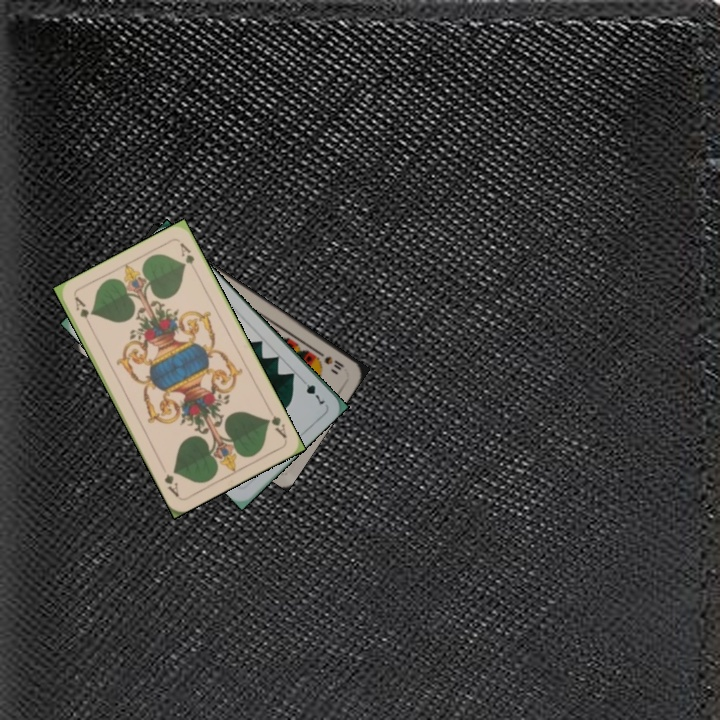G7: (296, 374, 328, 407)
GA: (70, 292, 95, 331), (262, 411, 289, 441)
S10: (313, 346, 347, 373)
